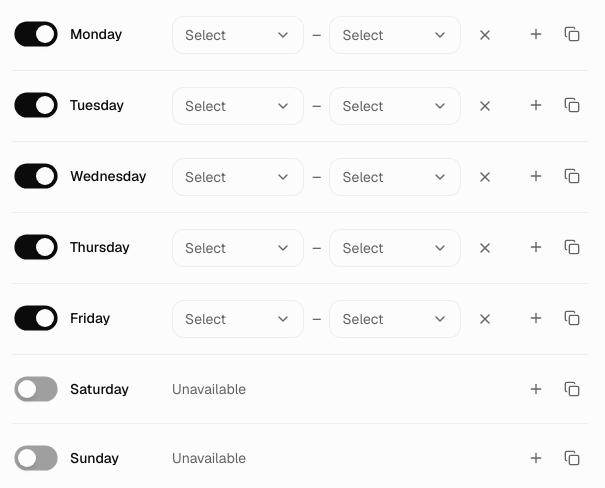
AvailabilityScheduler open panel › two days that reuse a range id open independently
Click the 1st button "Select" at coordinates (238, 35), box 172,16 -> 304,54
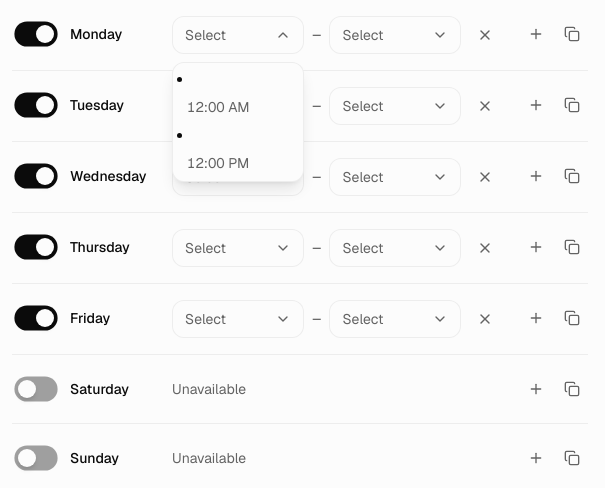
Expected: the 1st button "Select" is expanded, 172,16 -> 304,54
